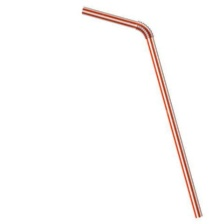drinking_straw: (75, 3, 209, 222)
